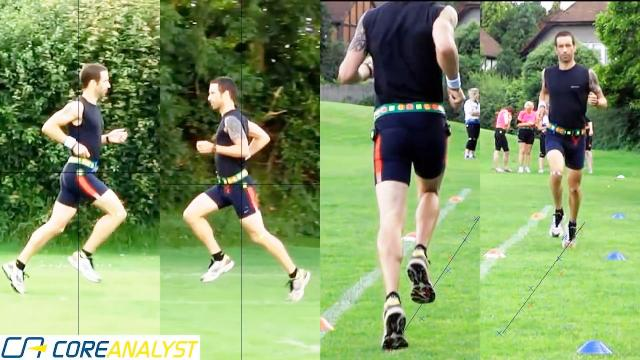berlari: (180, 76, 312, 310), (4, 60, 132, 298), (535, 28, 611, 256)
